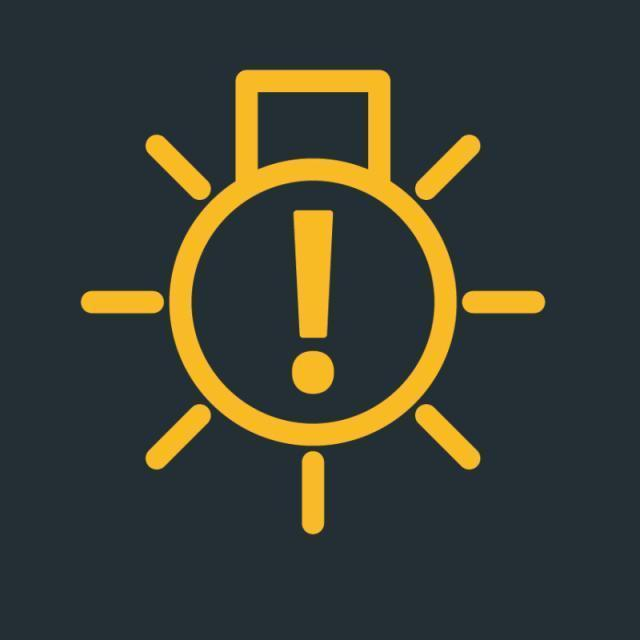kontrolka: (64, 44, 578, 554)
